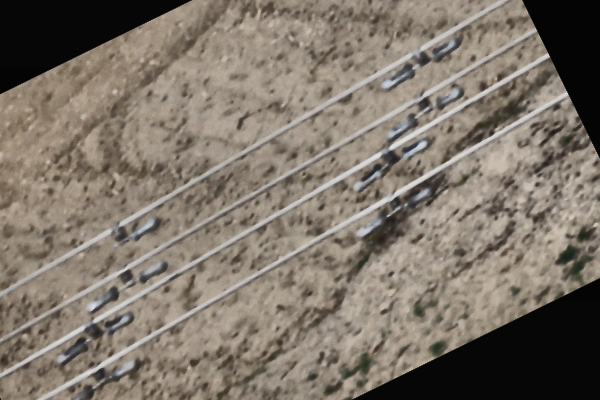damper: (377, 33, 463, 94), (84, 256, 168, 313), (350, 135, 431, 193), (382, 86, 464, 142), (53, 310, 134, 365), (351, 187, 435, 240), (80, 359, 143, 398)
damper_defect: (106, 214, 163, 252)
